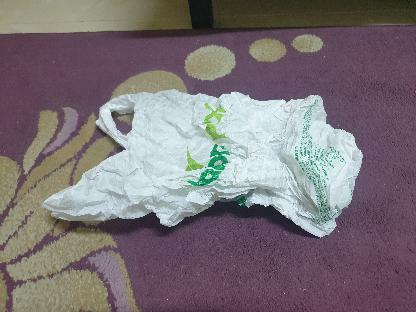Plastic Bag: (41, 88, 364, 238)
